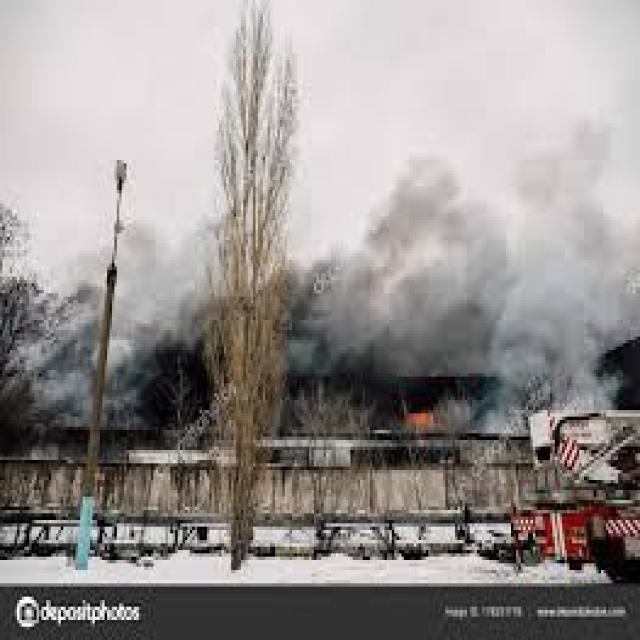Fire: (404, 411, 442, 430)
Smoke: (293, 109, 640, 395), (36, 228, 207, 358)
